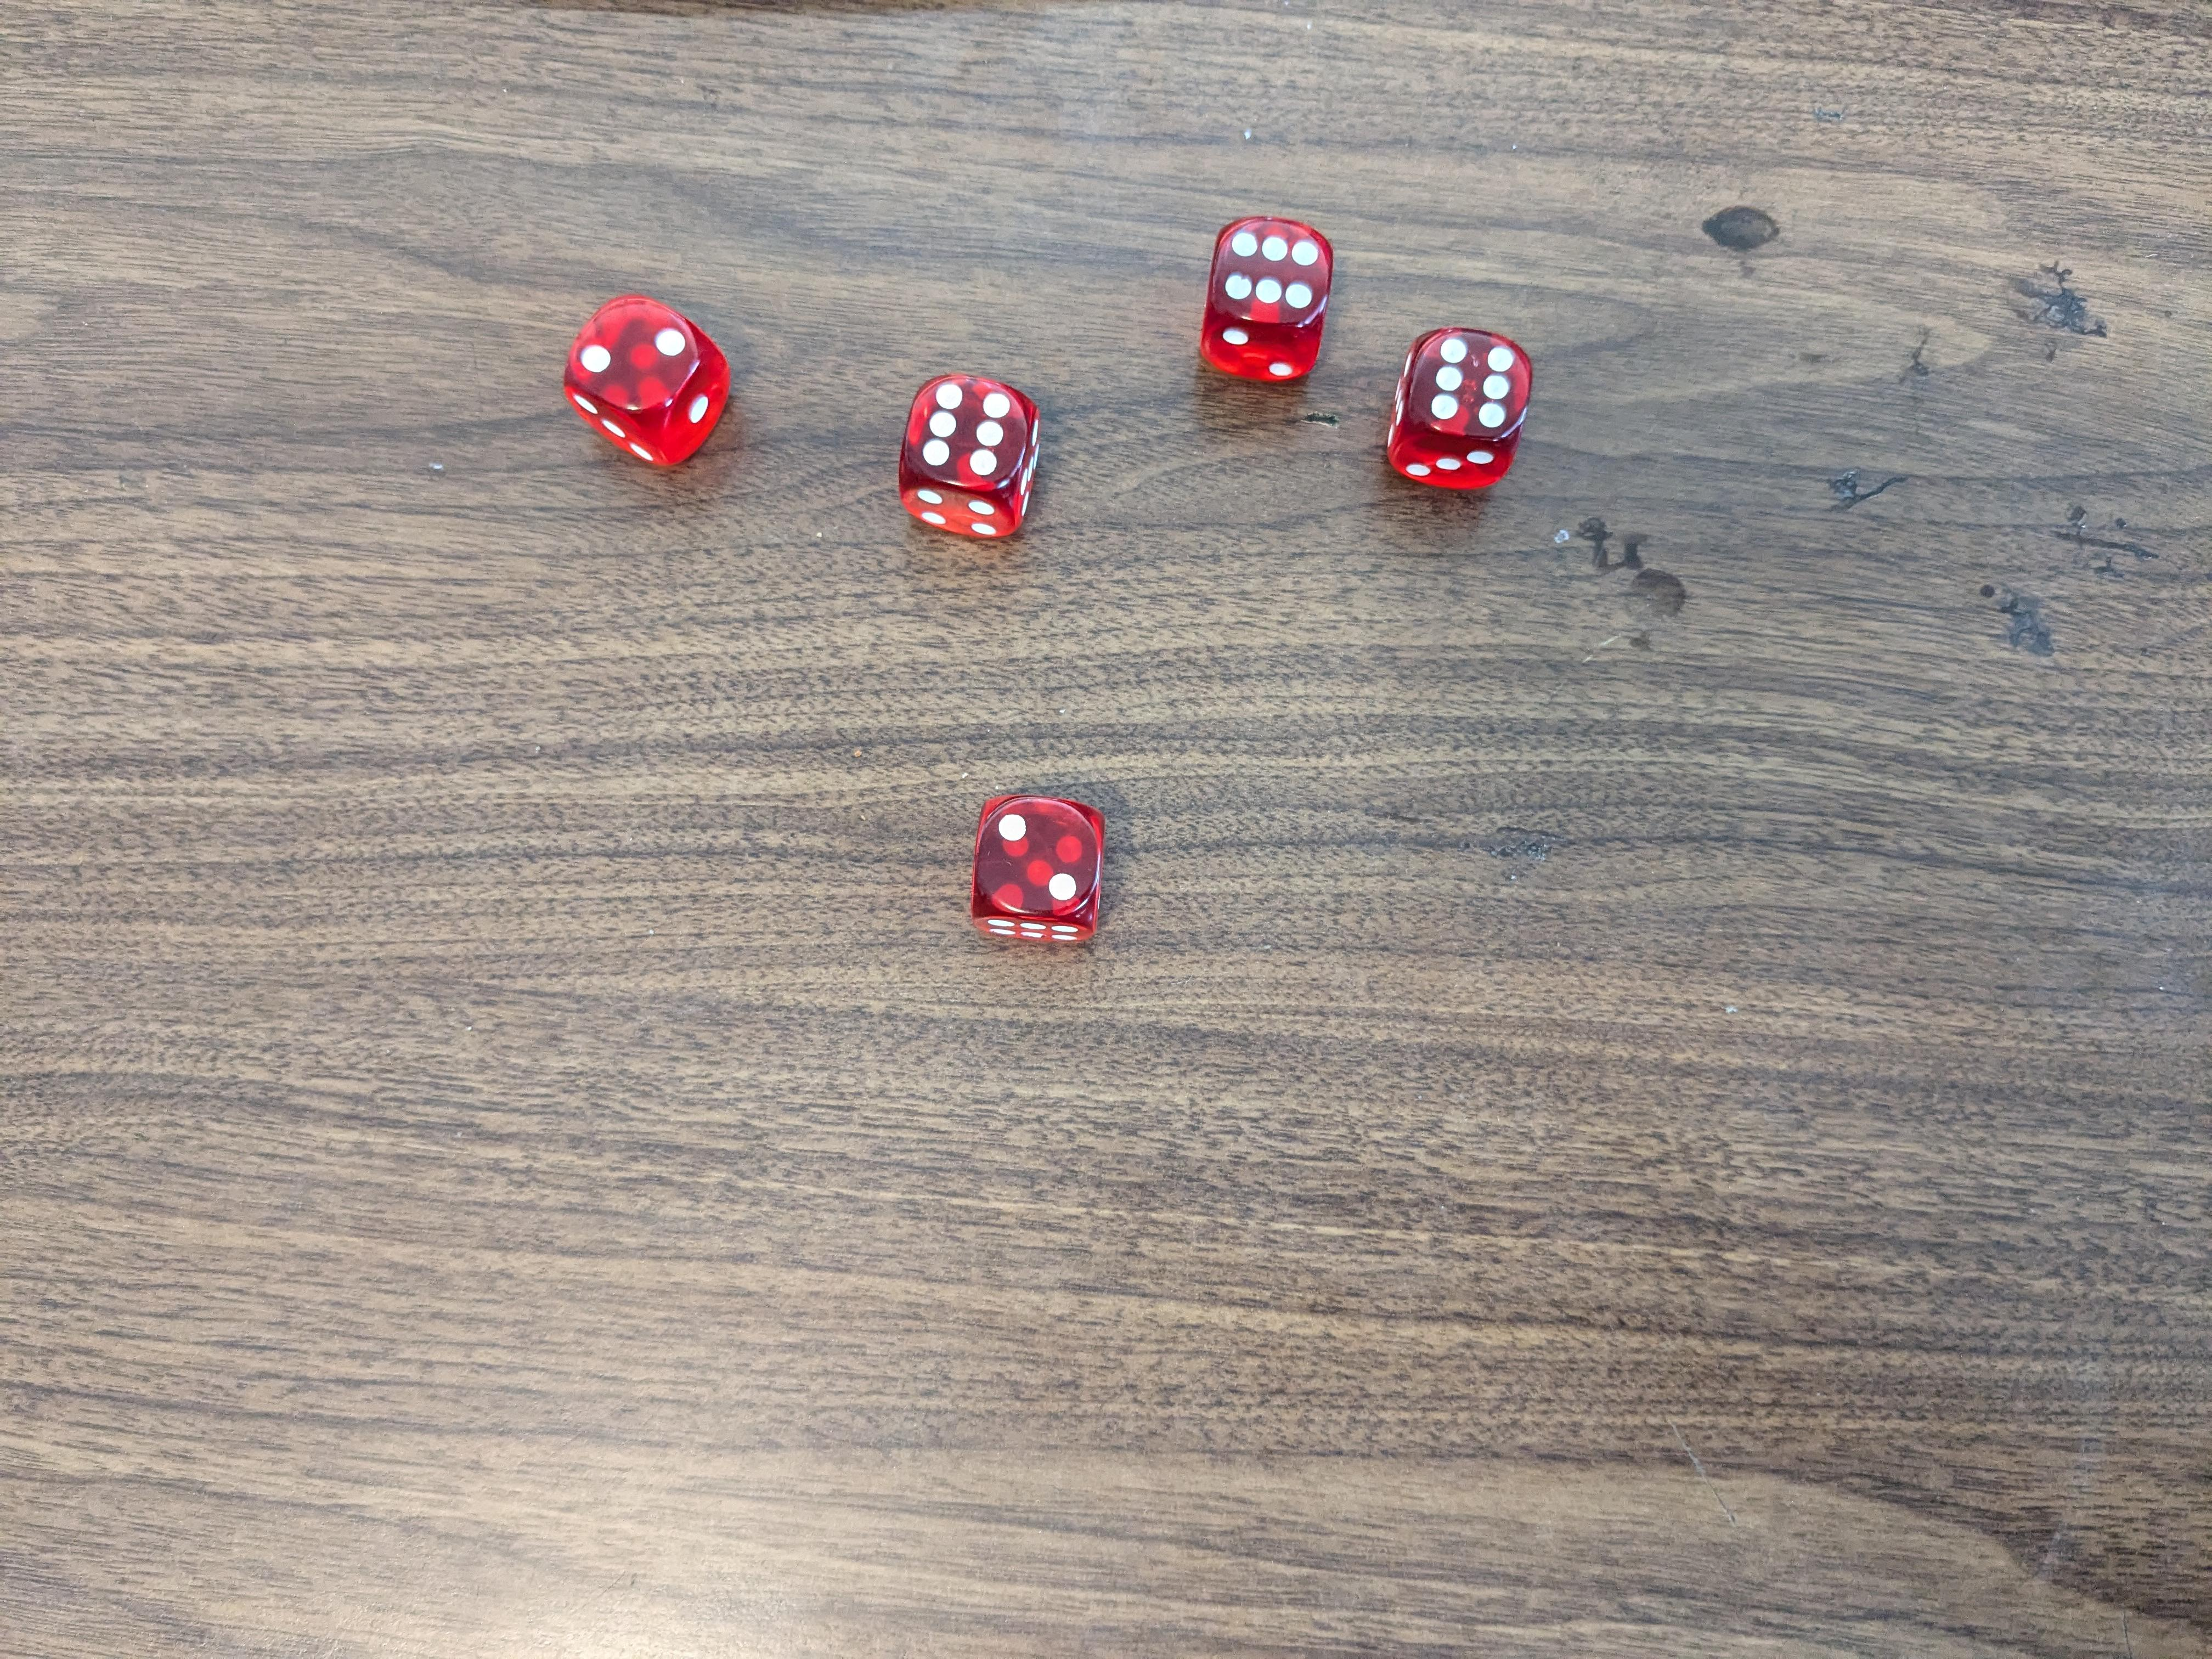six: (894, 371, 1047, 538), (1198, 214, 1338, 383), (1390, 328, 1527, 493)
two: (566, 293, 728, 474), (968, 793, 1106, 948)
